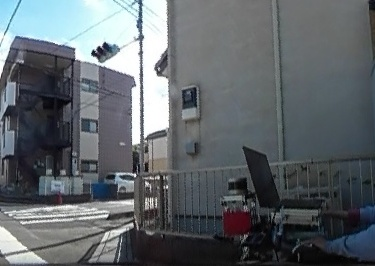person: (323, 75, 375, 266)
